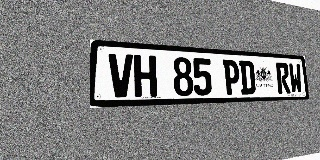5: (193, 58, 212, 96)
8: (173, 57, 194, 96)
D: (239, 60, 256, 94)
H: (134, 54, 157, 97)
P: (223, 59, 241, 95)
R: (276, 62, 291, 94)
V: (108, 53, 133, 98)
W: (288, 63, 303, 93)
